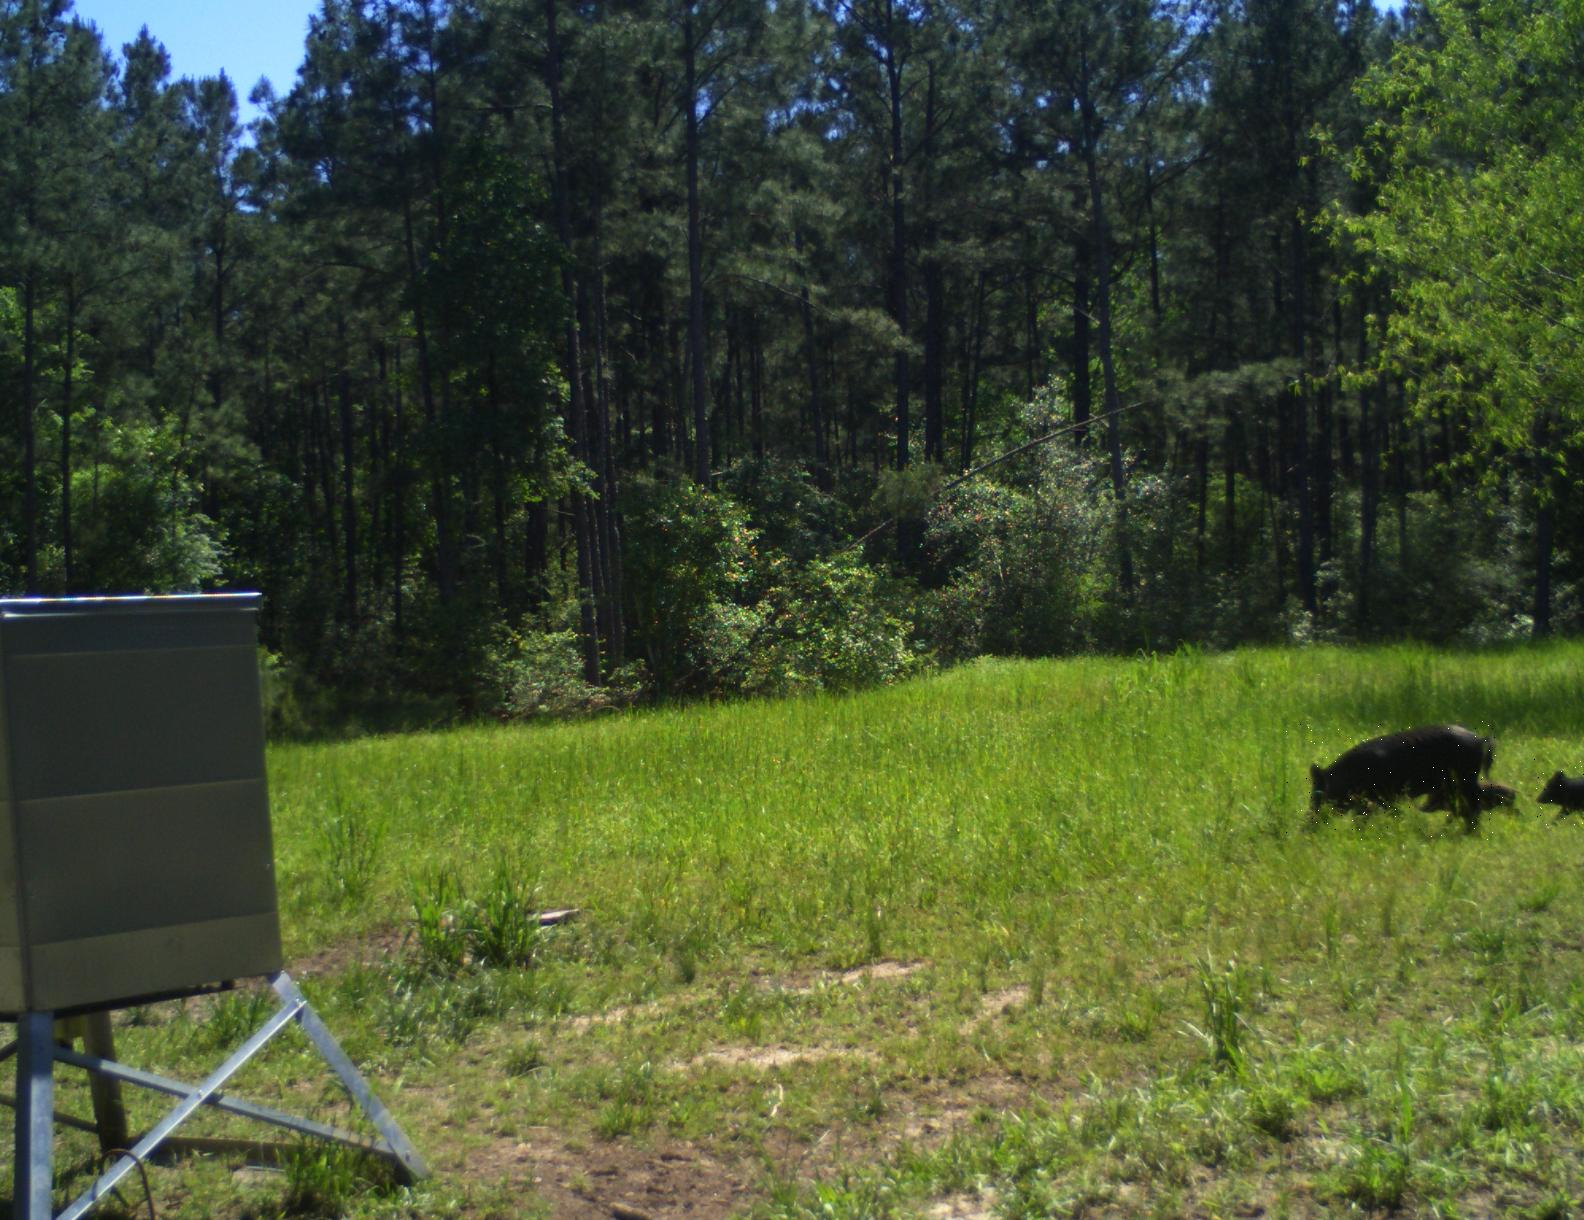Hog: (1287, 721, 1506, 843), (1534, 757, 1584, 825)
